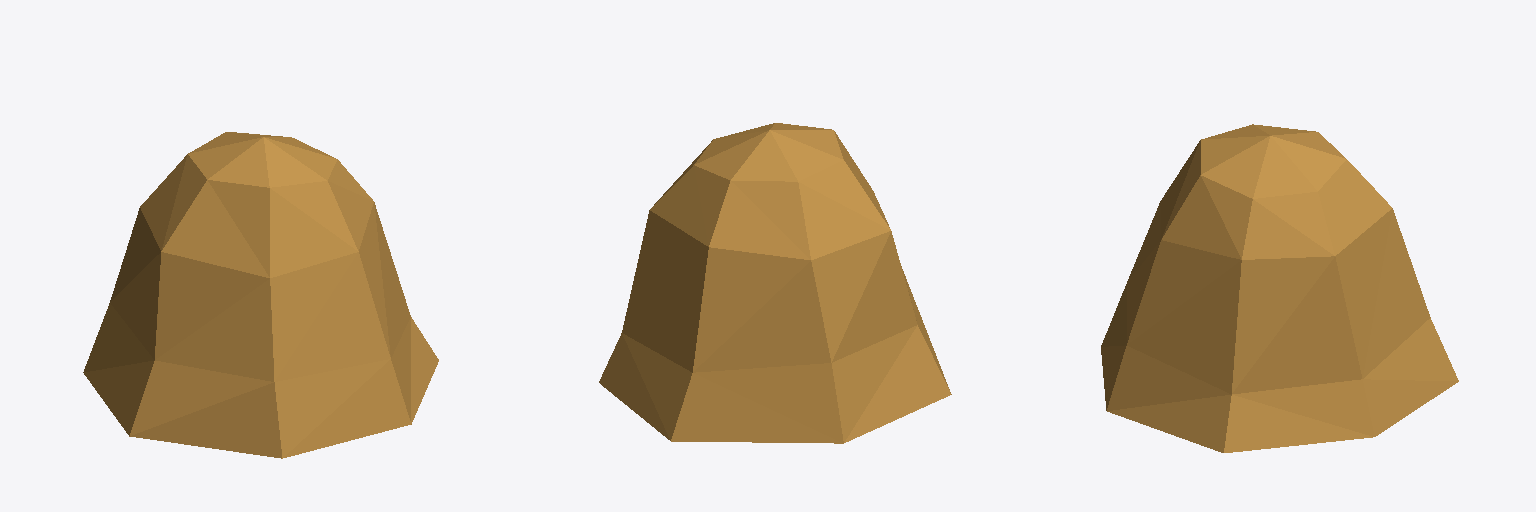
File: haystack1.obj
3 views of the same model, side by side, from view 1: azimuth 30°, elevation 25°; view 2: azimuth 150°, elevation 25°; view 3: azimuth 270°, elevation 25° (orthographic).
Visible parts, largest first — view 1: Object.1; view 2: Object.1; view 3: Object.1.
Part boxes in pixels (x1,y1,x2,y2): Object.1: (83,132,438,458); Object.1: (599,123,951,443); Object.1: (1101,124,1458,452).
Bounding box in the file's own units: 2 × 1.5 × 2.